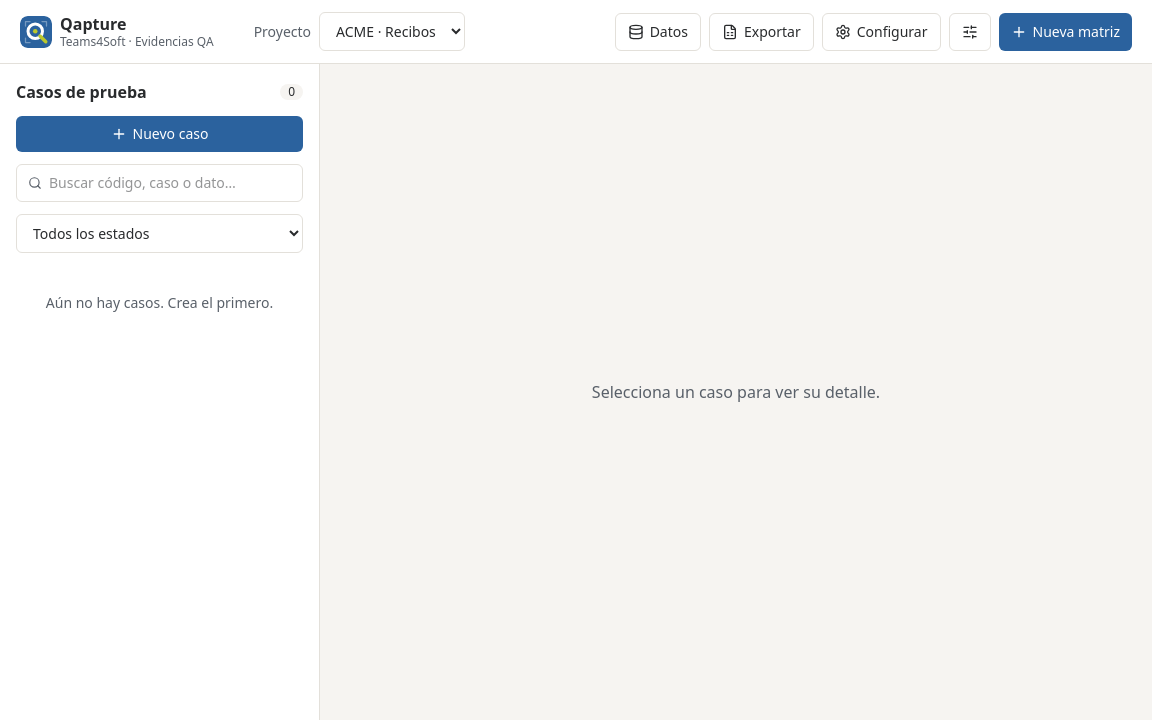
Test: ajustes de la aplicación › Esc oculta la ventana solo si la opción está activa y no hay diálogos
The image size is (1152, 720).
Press Escape
Press Escape
Click the button named "Ajustes" at coordinates (970, 32), box x1=948 y1=12 x2=990 y2=50
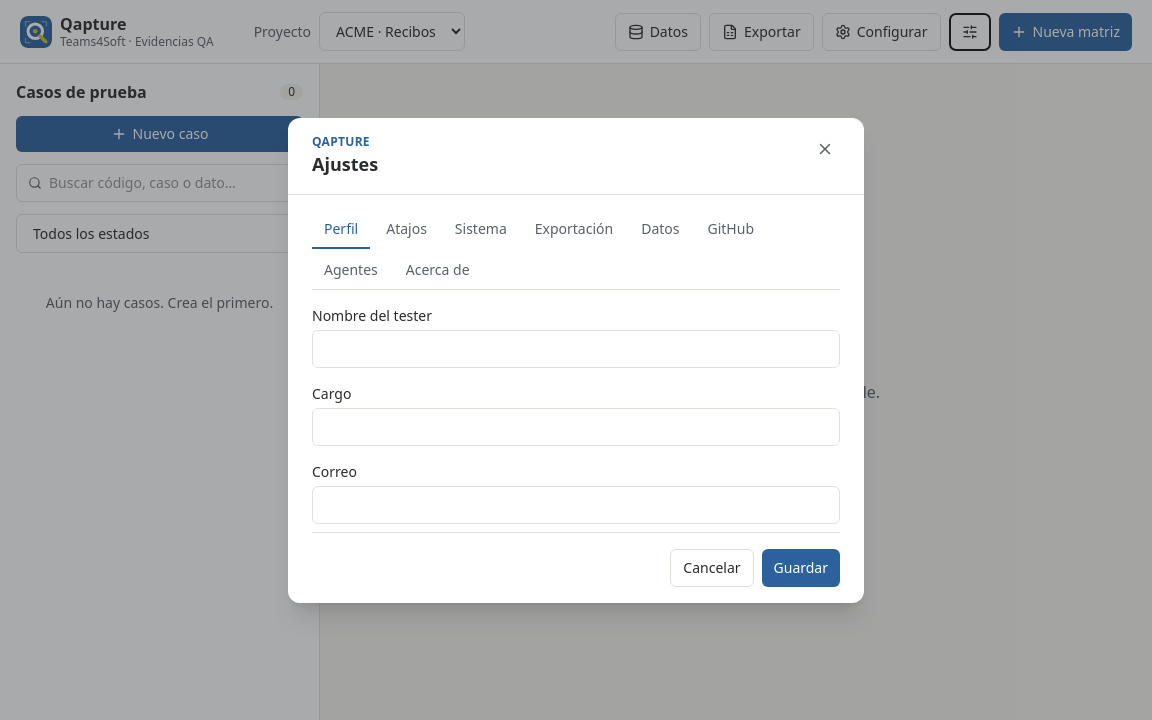
expect the dialog "Ajustes" is shown: met, box x1=288 y1=118 x2=864 y2=602
Press Escape
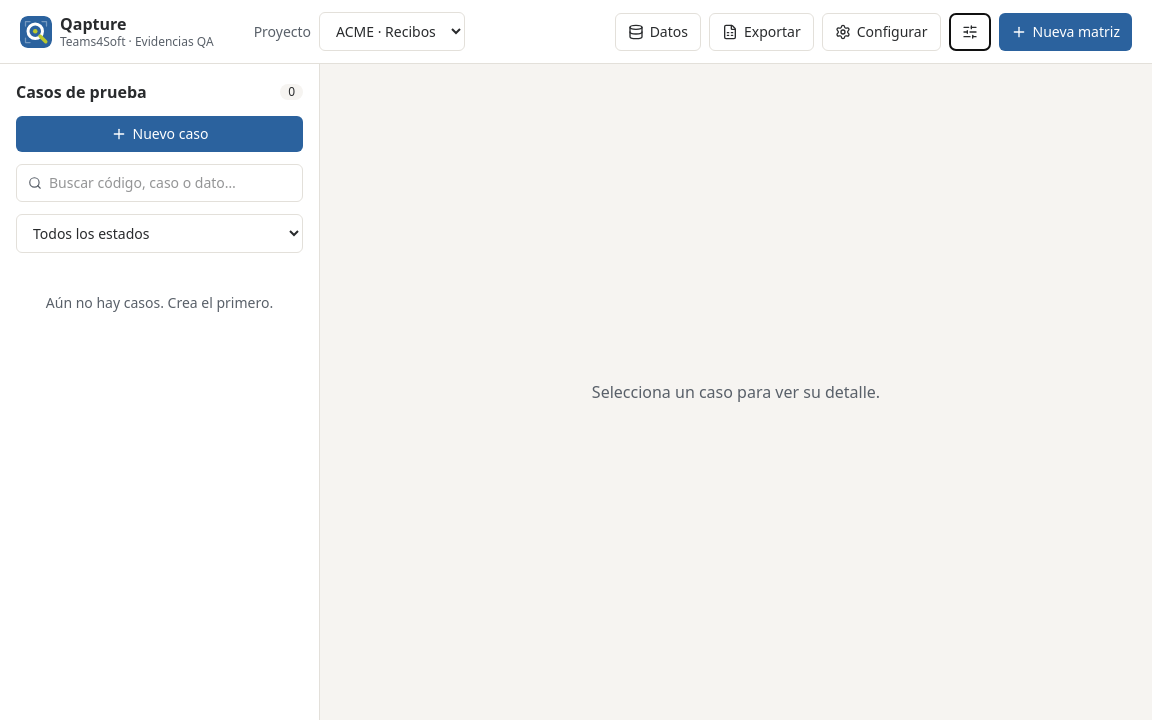
expect the heading "Ajustes" is gone: met
